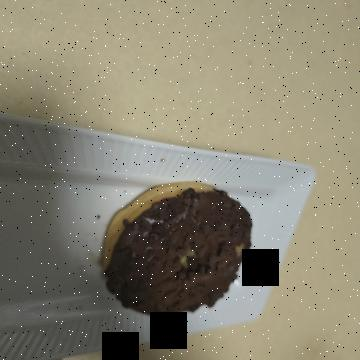doughnut: (170, 108, 324, 276)
